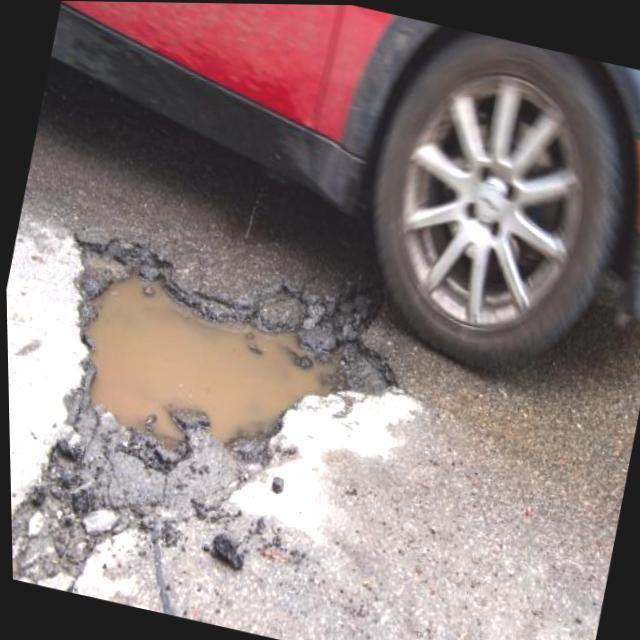Pothole: (9, 236, 378, 583)
